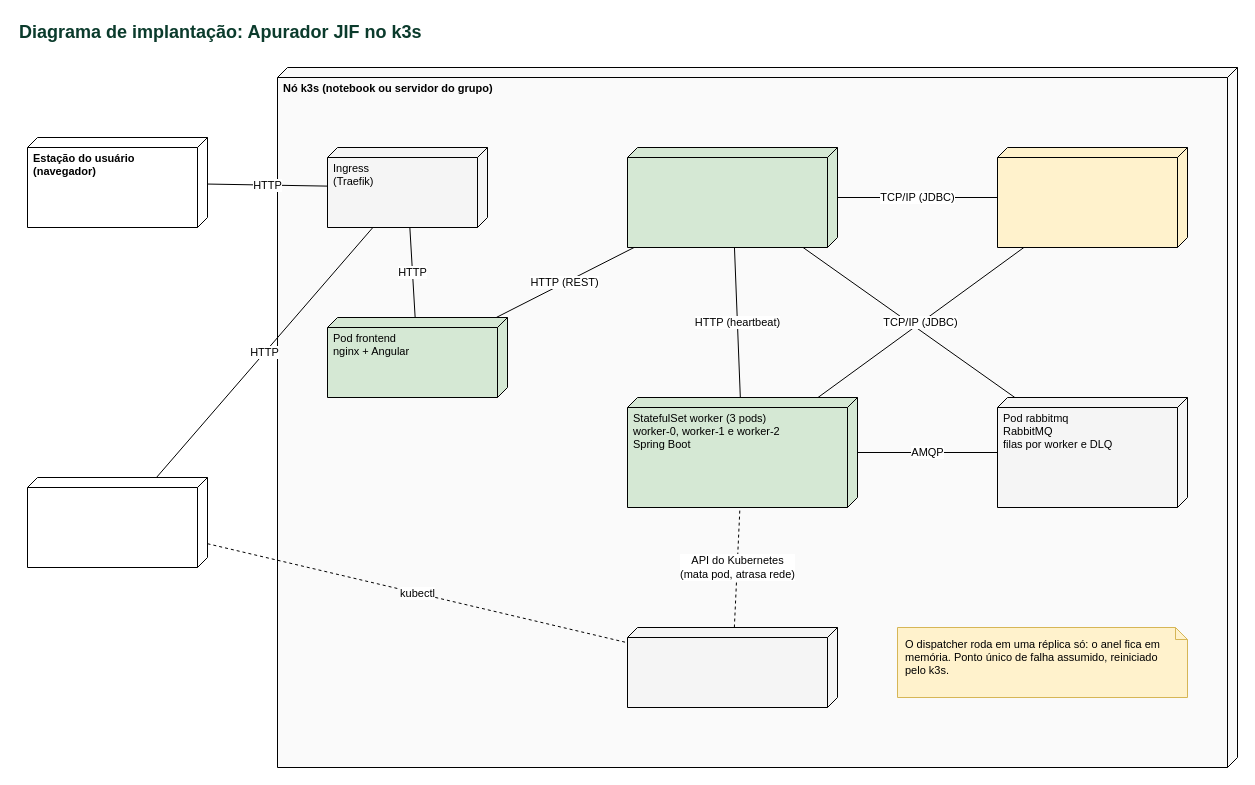
Some shapes in this 1255 by 785 pixel diagram are drawn without their labels. The shapes that lost their labels are listed below. From the top down, each one's centre as x and y in pixels, then its label:
(732,197): Pod dispatcher Spring Boot, 1 réplica Gateway e Dispatcher
(1092,197): Pod postgres PostgreSQL volume local-path
(117,522): Estação de testes (k6 e kubectl)
(732,667): Chaos Mesh (namespace chaos-mesh)
